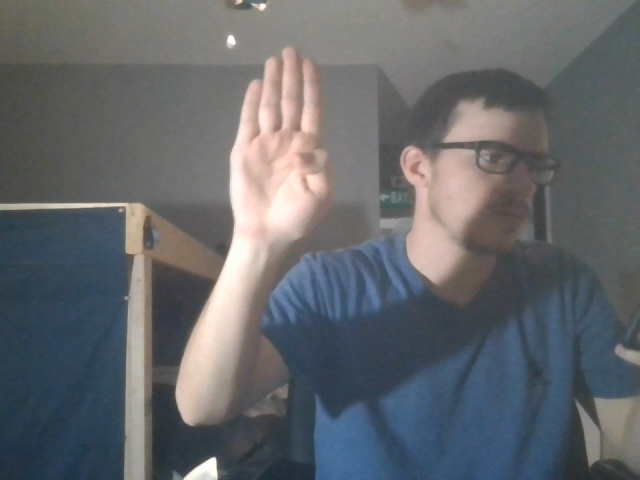B: (221, 45, 359, 241)
